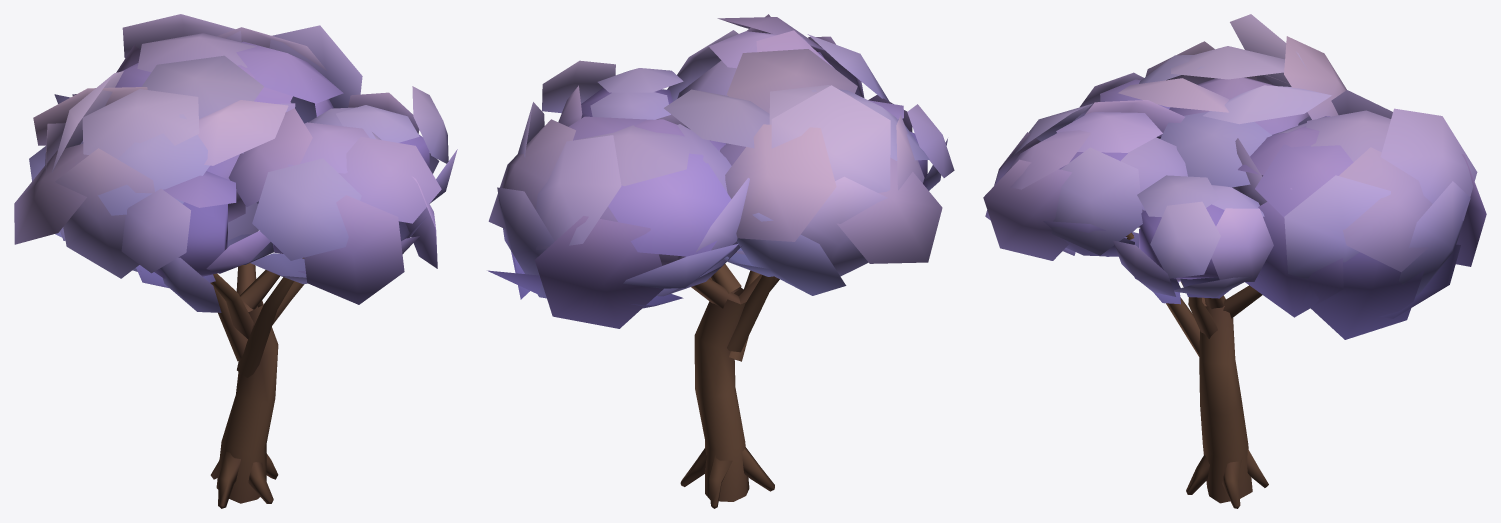
Rendered from veg_wild_jacaranda.glb.
The picture shows the model from 3 angles, left to right: view 1: azimuth 30°, elevation 25°; view 2: azimuth 150°, elevation 25°; view 3: azimuth 270°, elevation 25°; orthographic projection. The views are drawn at different scales.
Visible parts, largest first — view 1: SM_scatter_veg_leaf_clip_x0_z0_raw.018; view 2: SM_scatter_veg_leaf_clip_x0_z0_raw.018; view 3: SM_scatter_veg_leaf_clip_x0_z0_raw.018.
Part boxes in pixels (bbox=[...]): SM_scatter_veg_leaf_clip_x0_z0_raw.018: bbox=[14, 14, 457, 508]; SM_scatter_veg_leaf_clip_x0_z0_raw.018: bbox=[487, 14, 954, 508]; SM_scatter_veg_leaf_clip_x0_z0_raw.018: bbox=[983, 14, 1486, 508].
Size of the model in its own units: 3.92 by 4.05 by 4.35.
